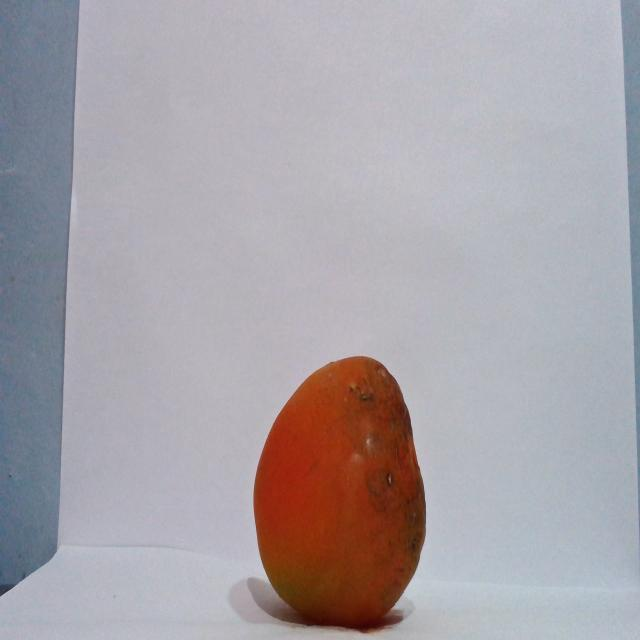Red: (251, 354, 427, 627)
